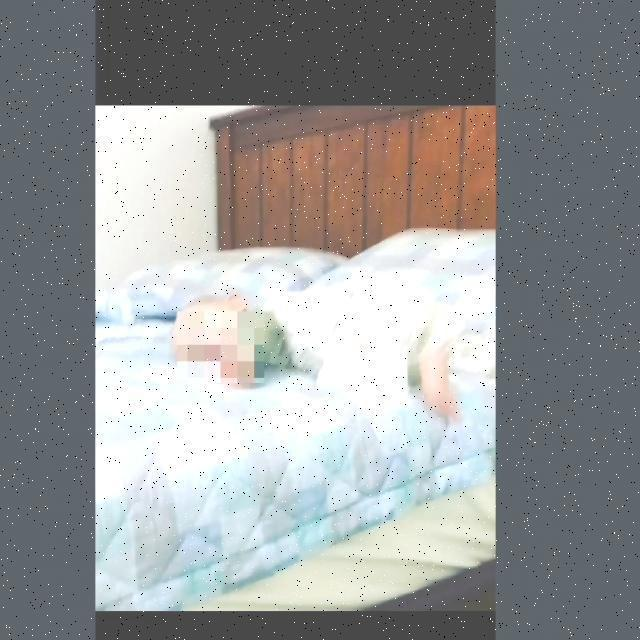child: (173, 265, 495, 415)
